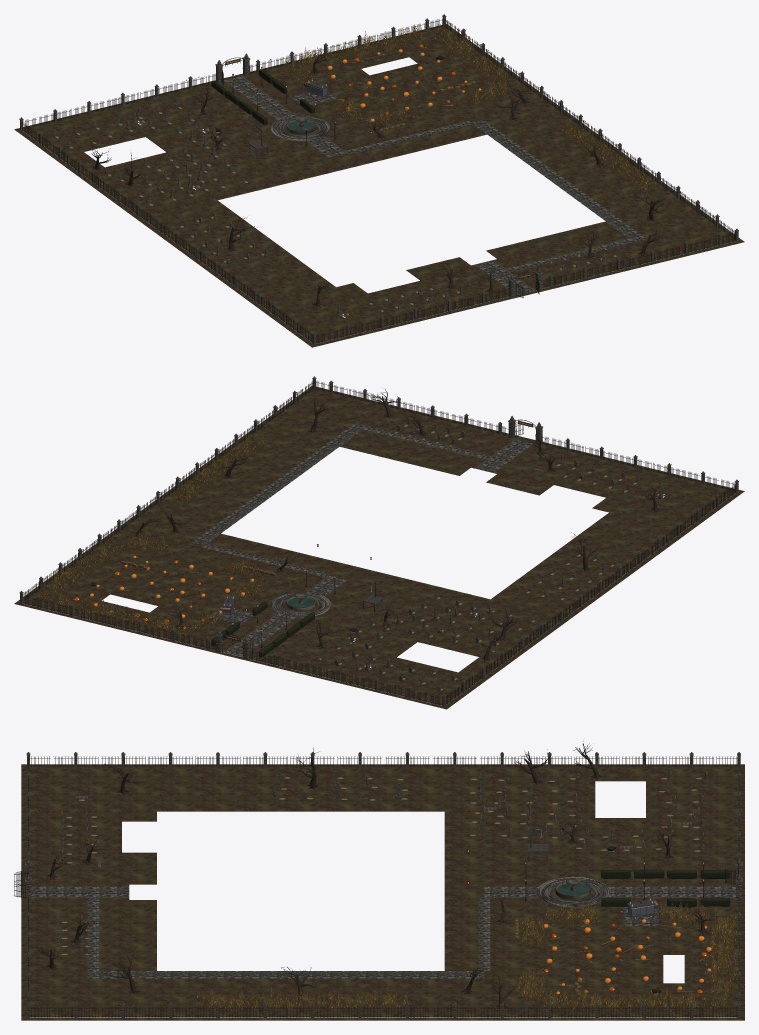
The model's file is grounds_v16.glb.
The picture shows the model from 3 angles, top to bottom: view 1: azimuth 30°, elevation 25°; view 2: azimuth 150°, elevation 25°; view 3: azimuth 270°, elevation 25°; orthographic projection. The views are drawn at different scales.
Visible parts, largest first — view 1: grounds; view 2: grounds; view 3: grounds.
Boxes of the visible parts, x1=… form: grounds: x1=14, y1=14, x2=744, y2=347; grounds: x1=14, y1=376, x2=744, y2=709; grounds: x1=14, y1=741, x2=744, y2=1020.
Bounding box in the file's own units: 102 × 8.37 × 123.
30 materials, 22 textured.
